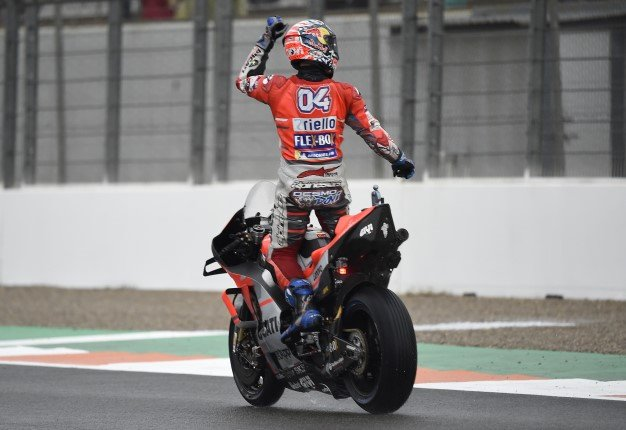helmet: (278, 10, 345, 79)
